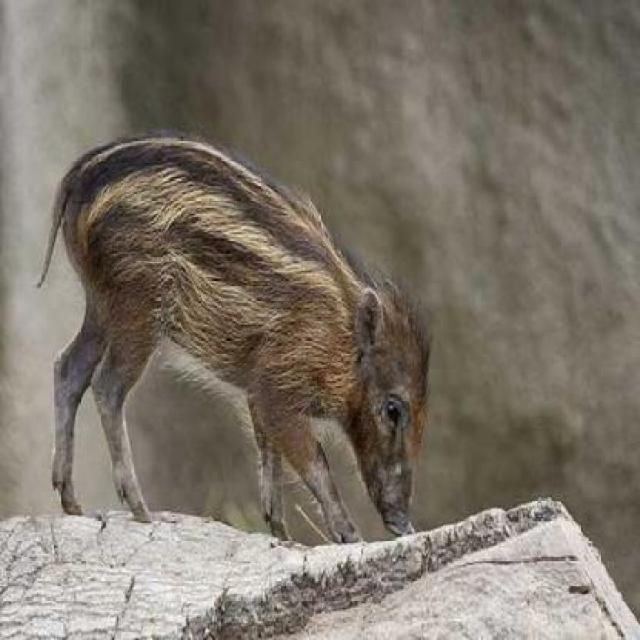pig: (31, 114, 474, 568)
